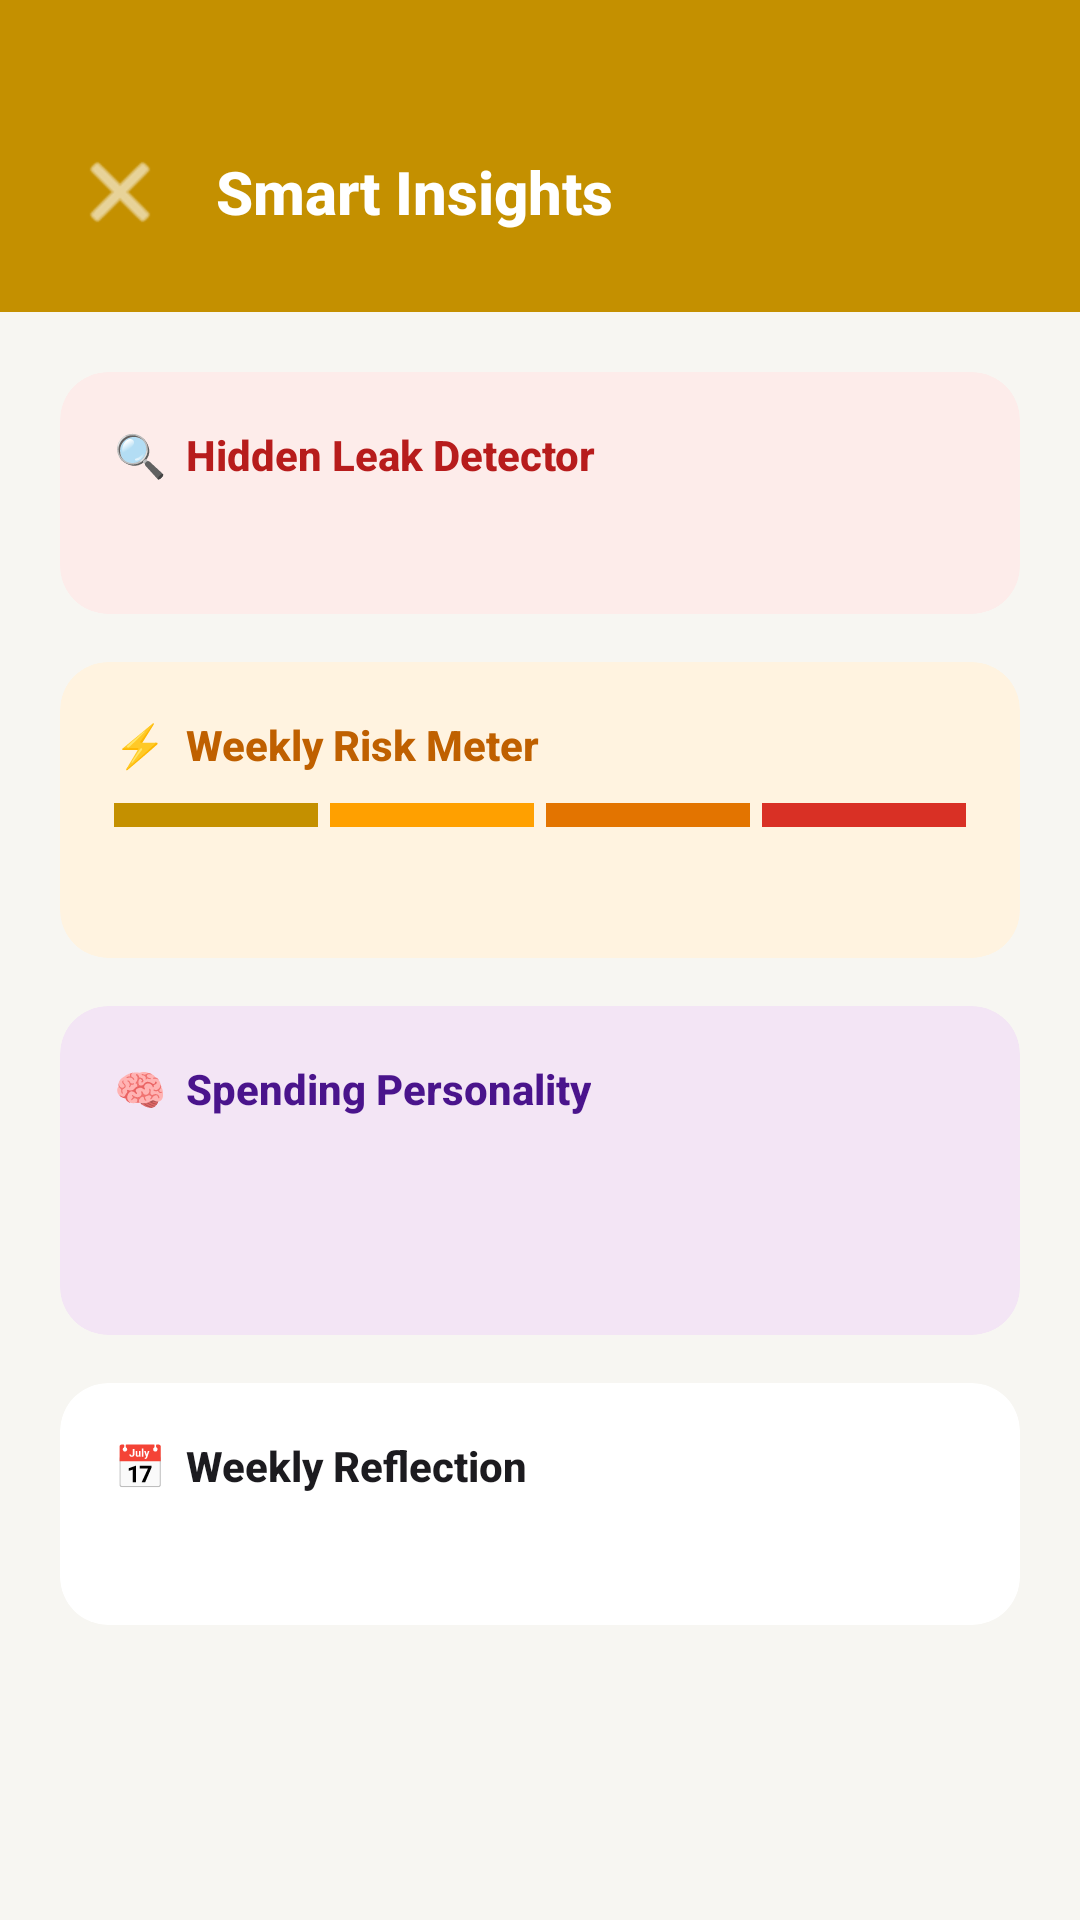

Where icons sit on this 1080px x 1920px app screen, as (left=x1, top=y1, right=x2, bottom=y2):
close clear cancel: (left=90, top=162, right=150, bottom=222)
